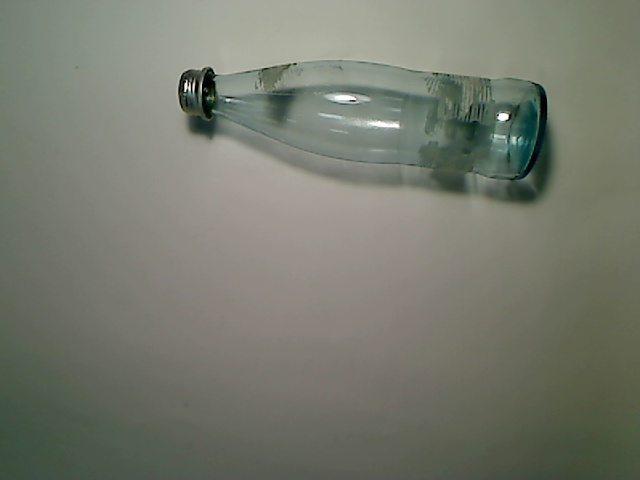bottle: (179, 57, 547, 183)
